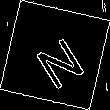N_NW: (25, 23, 85, 87)
